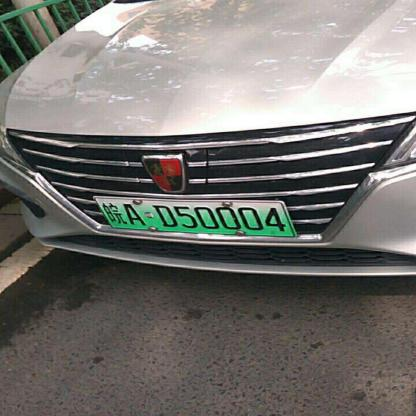lp: (93, 197, 296, 236)
